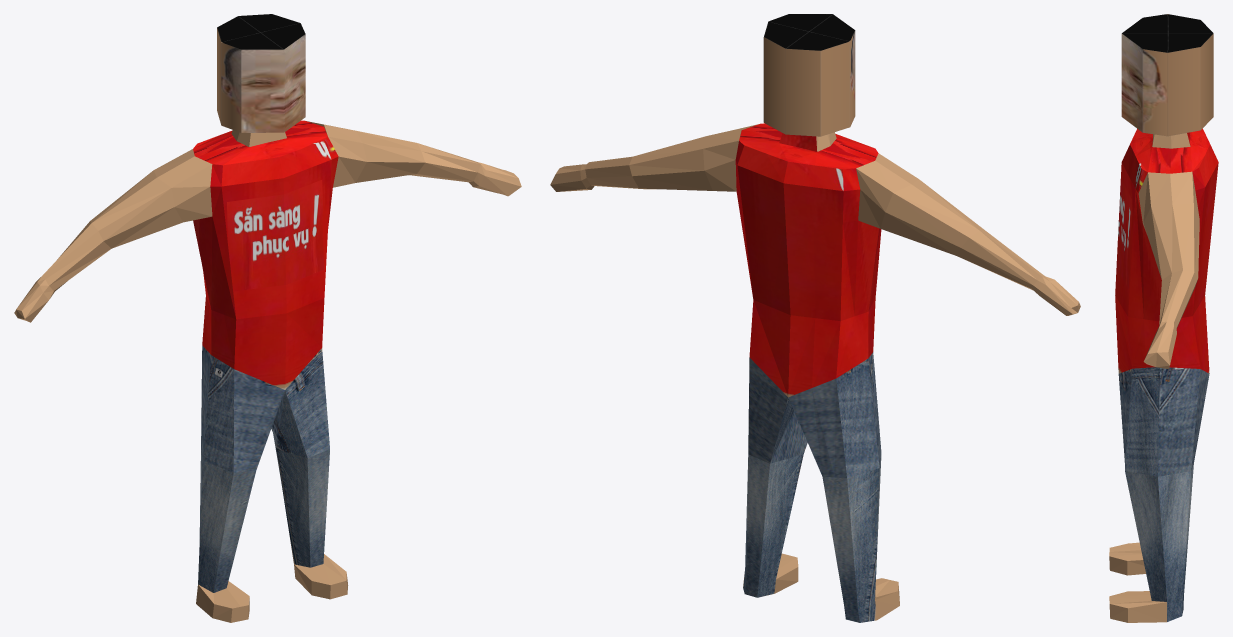
The model's file is AnhJemJickJac.fbx.
3 views of the same model, side by side, from view 1: azimuth 30°, elevation 25°; view 2: azimuth 150°, elevation 25°; view 3: azimuth 270°, elevation 25° (orthographic). The views are drawn at different scales.
Visible parts, largest first — view 1: pCube1, pCube2; view 2: pCube1, pCube2; view 3: pCube1, pCube2.
Boxes of the visible parts, x1,y1,x2,y2 form: pCube1: (14,120,521,622); pCube2: (217,14,305,132); pCube1: (550,123,1080,622); pCube2: (763,14,855,136); pCube1: (1109,128,1218,622); pCube2: (1121,14,1213,136).
Bounding box in the file's own units: 7.16 × 7.56 × 1.34.
